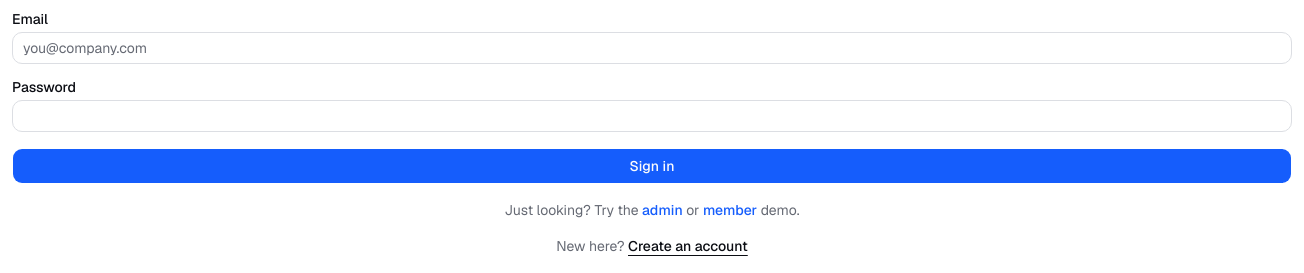
it: LoginForm › fills the demo credentials with one click
Click the button "admin" at (662, 210), box [642,200,683,220]
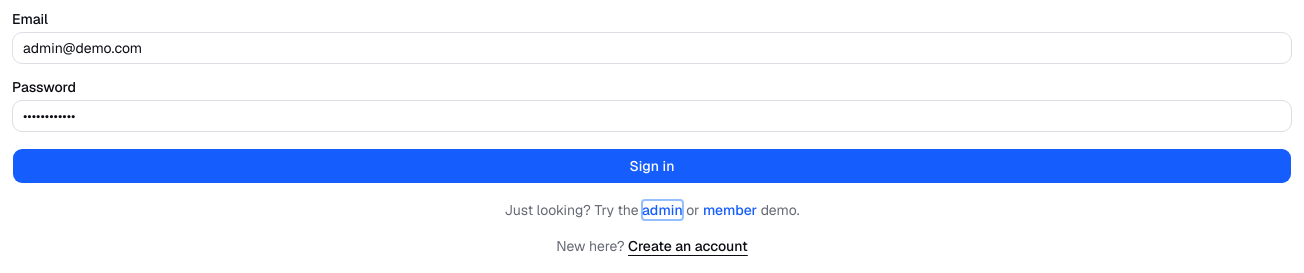
Check: the field labelled "Email" holds "admin@demo.com", box [12,32,1292,64]
Check: the password field labelled "Password" holds "Password123!", box [12,100,1292,132]
